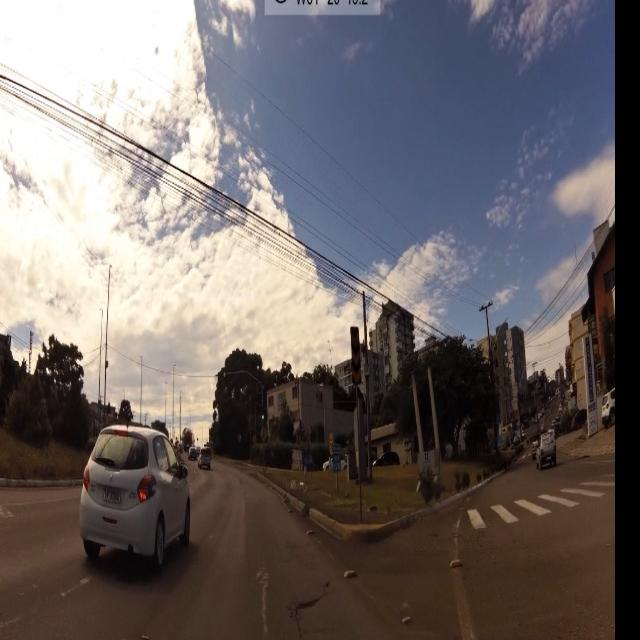MP: (348, 325, 364, 391)
